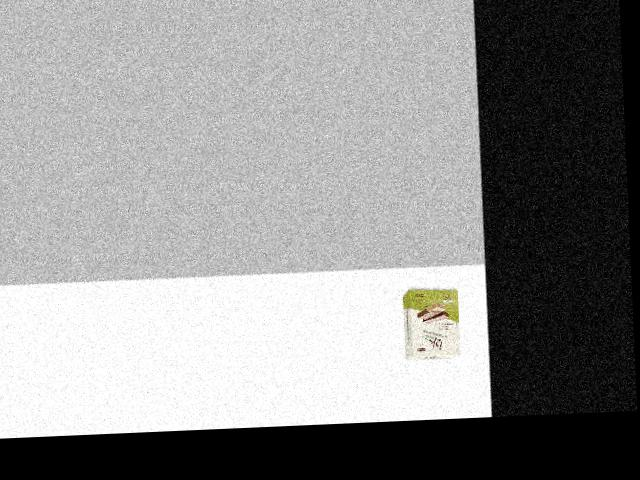chocolate: (398, 285, 462, 361)
